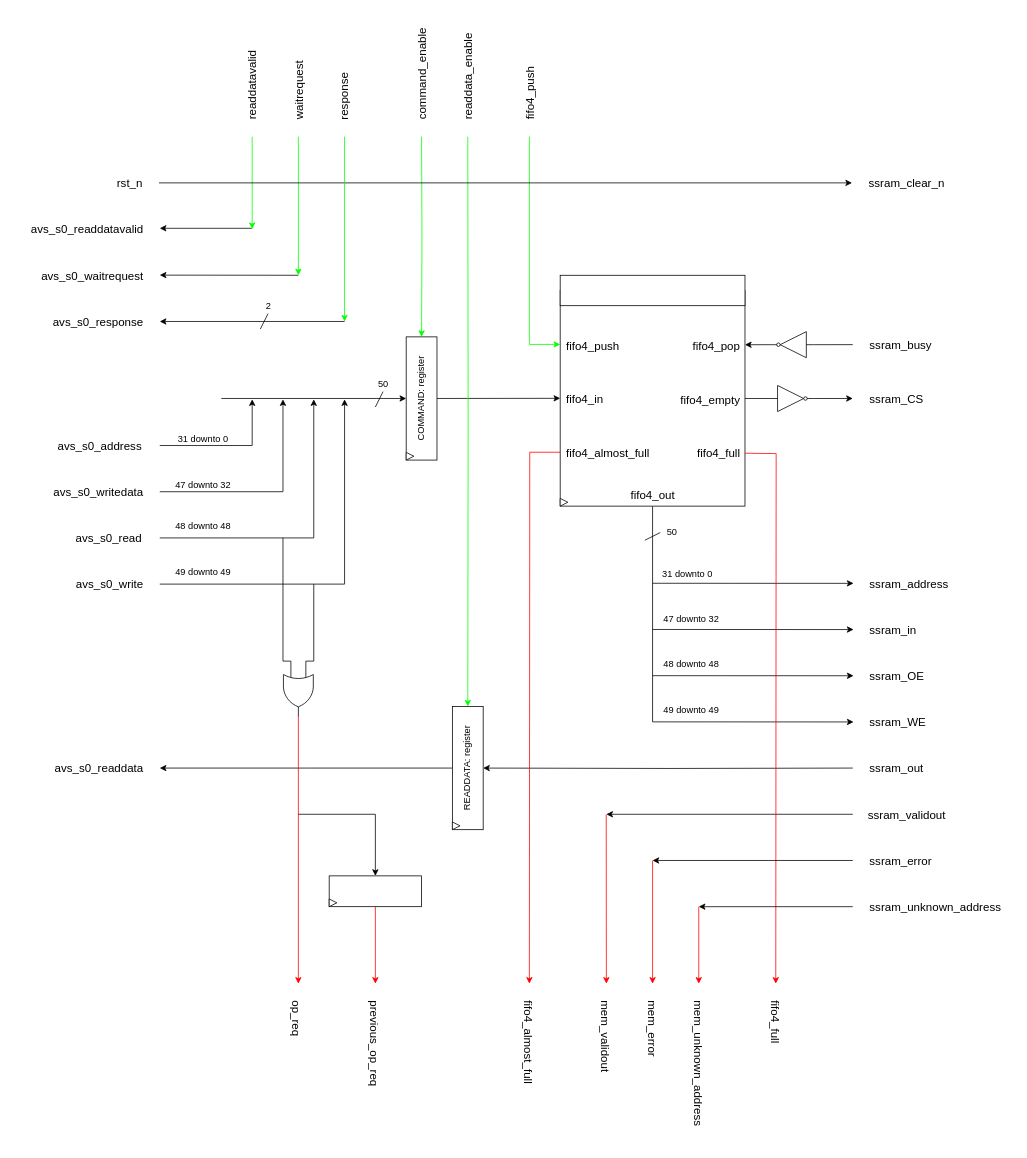
The diagram is 1027 pixels wide and 1158 high, and some of its shapes have lost their labels. Here are the shapes that lost their labels. From the top down, the centre of each, then its label:
At (x=652, y=290): "LOCAL_FIFO: fifo4".
At (x=375, y=891): "POR: d_flip_flop".
